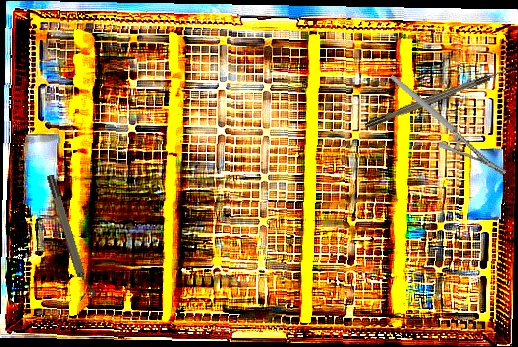Fixation Ring: (44, 172, 97, 301)
Hook Surgical: (363, 63, 517, 130)
Needle Holder: (389, 49, 508, 200)
